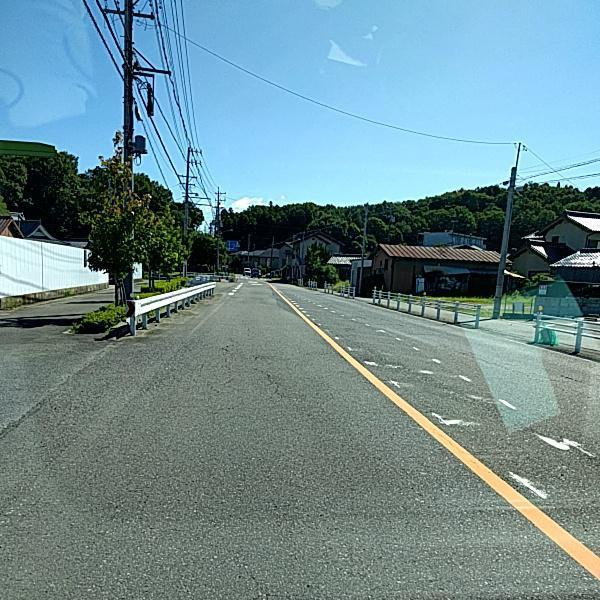D44: (283, 291, 599, 509)
